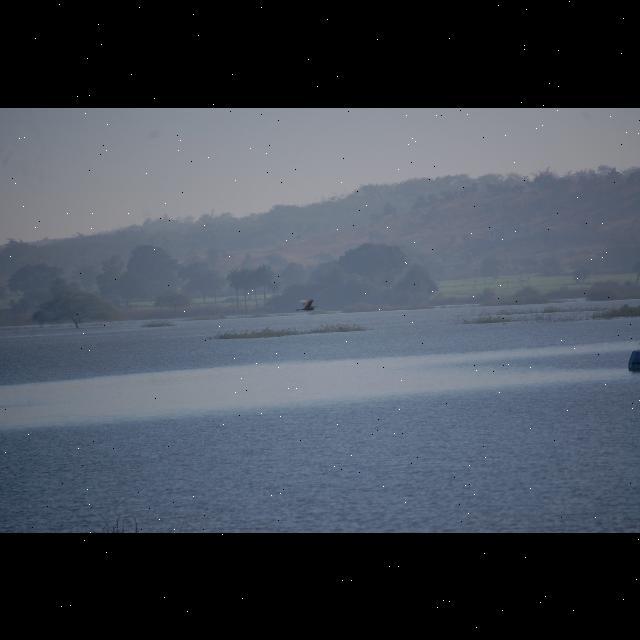egret: (296, 298, 318, 310)
